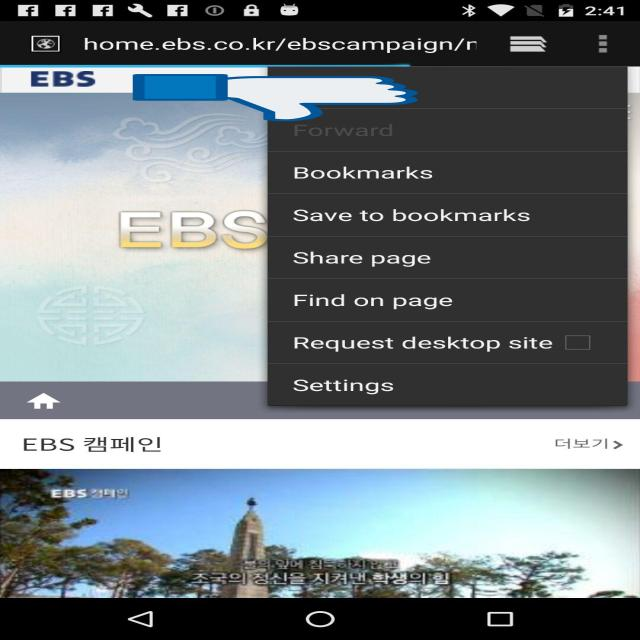obstruction: (133, 73, 418, 122)
